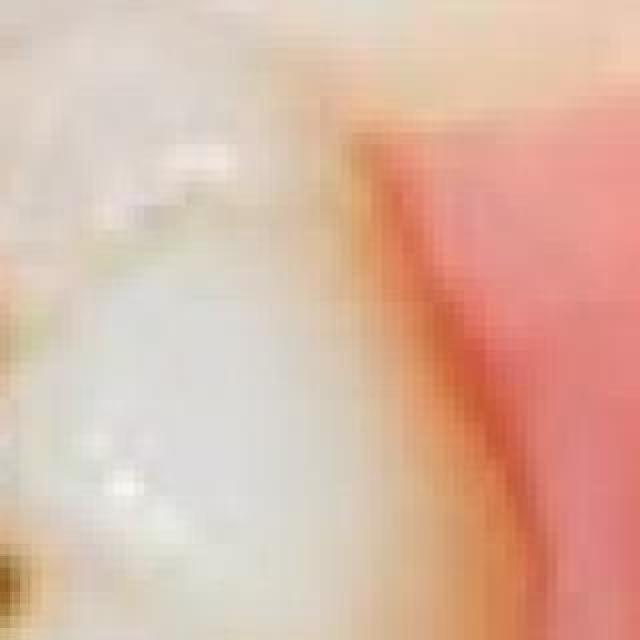cavities: (0, 280, 106, 640)
